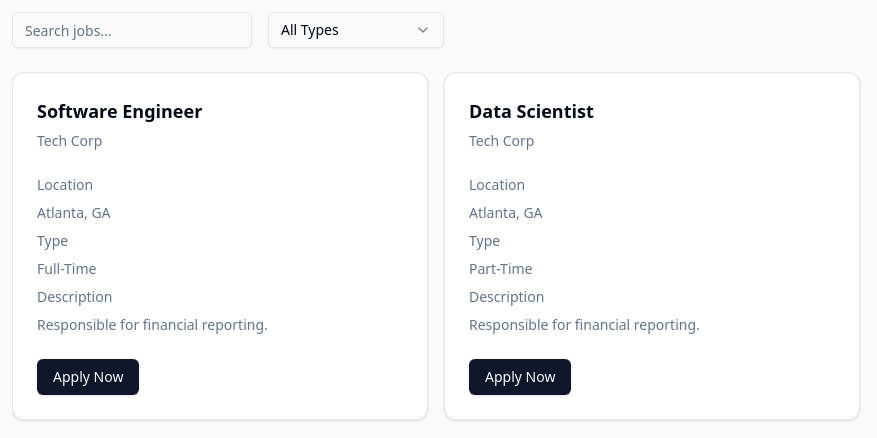
JobList › should filter jobs when selecting type › should show only full-time jobs
This screenshot has width=877, height=438.
Click the dropdown.
click(356, 30)  # box [268,12,444,48]
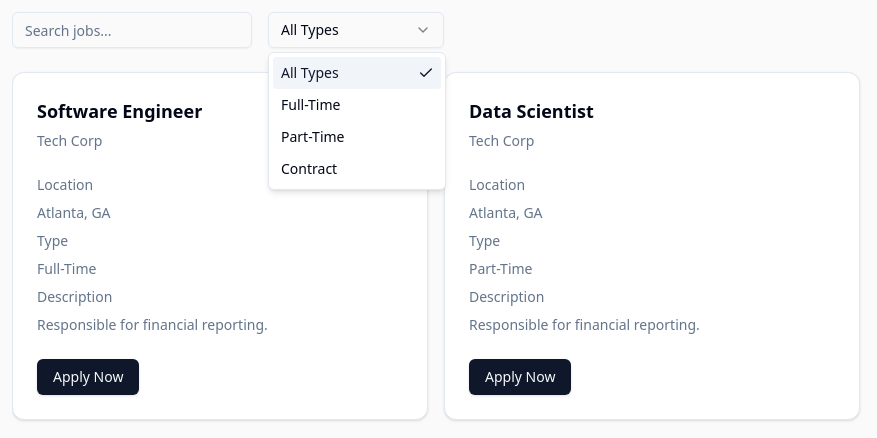
Click the option "Full-Time".
click(311, 104)  # box [281,95,340,114]
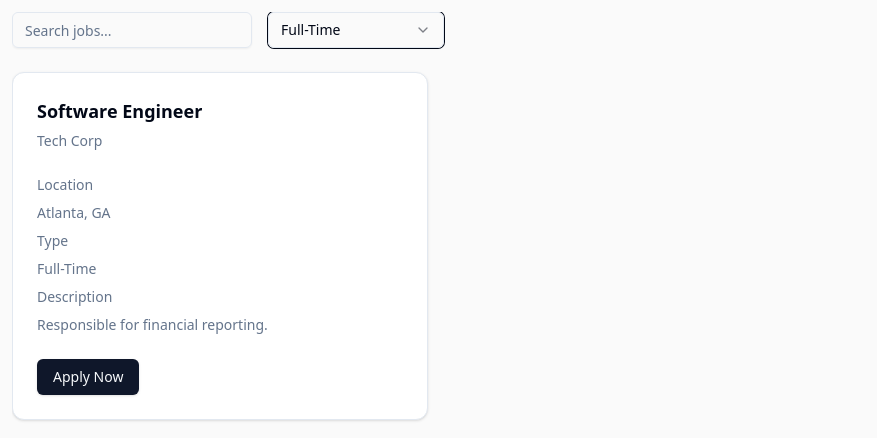
Expected: the heading "Software Engineer" is shown, [37,99,202,123]
Expected: the number of list items with test id "job-card" is 1, [12,72,428,420]
Expected: the heading "Data Scientist" is gone
